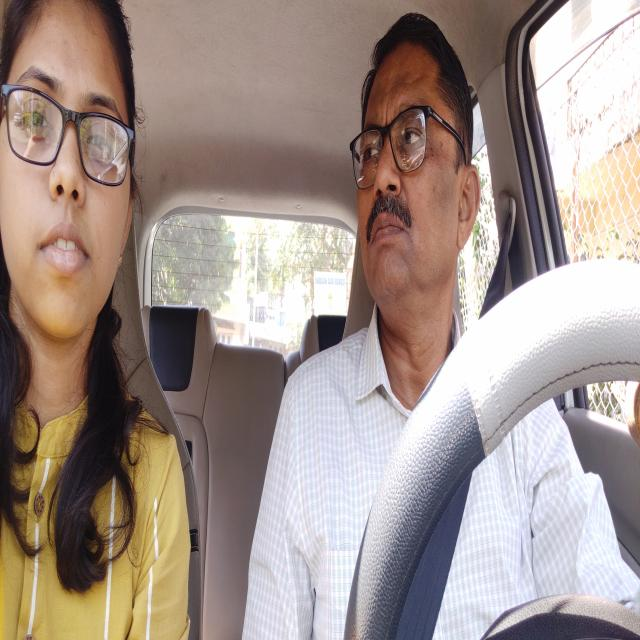LeftRight: (349, 8, 484, 335)
person: (3, 2, 141, 379)
